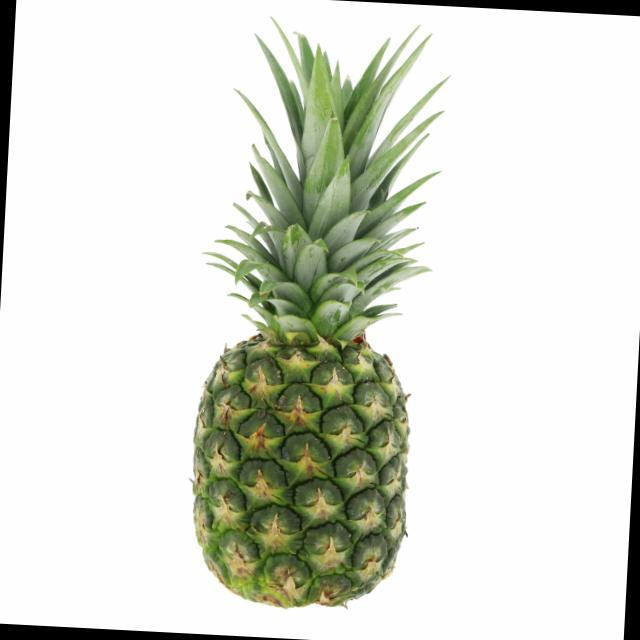PINEAPLE: (187, 28, 436, 613)
